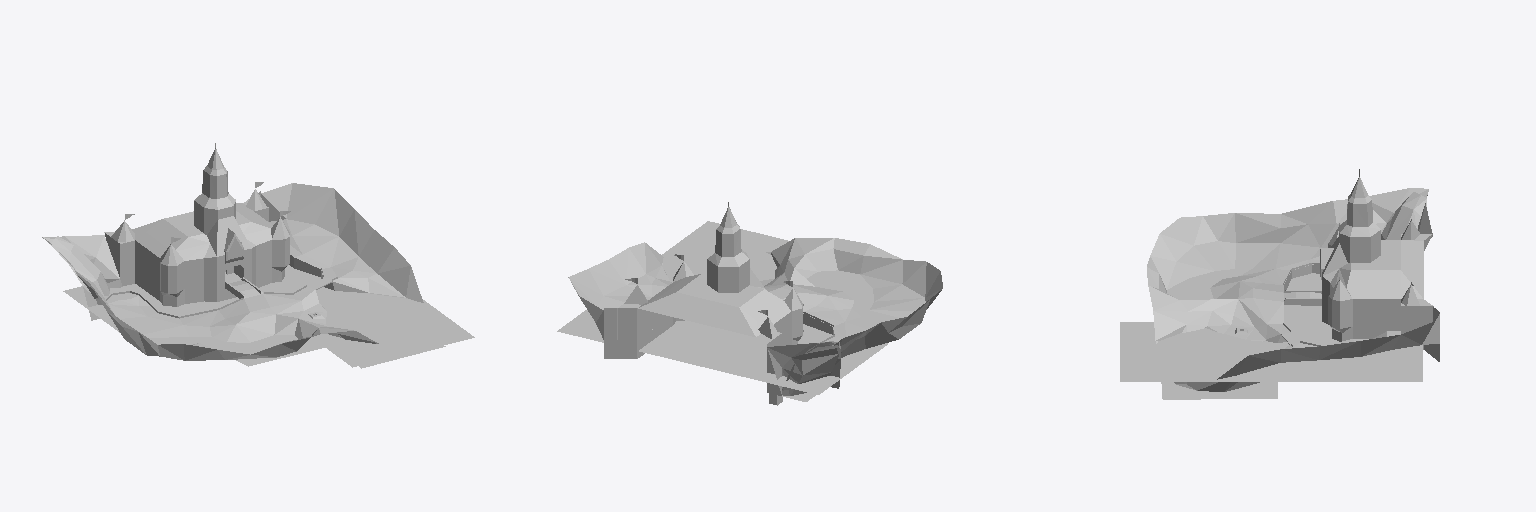
File: peaches_castle.obj
The picture shows the model from 3 angles: view 1: azimuth 30°, elevation 25°; view 2: azimuth 150°, elevation 25°; view 3: azimuth 270°, elevation 25°; orthographic projection.
Visible parts, largest first — view 1: Shape_IndexedFaceSet_137_Shape_IndexedFaceSet.259, Shape_IndexedFaceSet_038_Shape_IndexedFaceSet.160, Shape_IndexedFaceSet_017_Shape_IndexedFaceSet.139, Shape_IndexedFaceSet_022_Shape_IndexedFaceSet.144, Shape_IndexedFaceSet_012_Shape_IndexedFaceSet.134, Shape_IndexedFaceSet_023_Shape_IndexedFaceSet.145, Shape_IndexedFaceSet_030_Shape_IndexedFaceSet.152, Shape_IndexedFaceSet_136_Shape_IndexedFaceSet.258, Shape_IndexedFaceSet_071_Shape_IndexedFaceSet.193, Shape_IndexedFaceSet_034_Shape_IndexedFaceSet.156, Shape_IndexedFaceSet_070_Shape_IndexedFaceSet.192, Shape_IndexedFaceSet_013_Shape_IndexedFaceSet.135; view 2: Shape_IndexedFaceSet_038_Shape_IndexedFaceSet.160, Shape_IndexedFaceSet_137_Shape_IndexedFaceSet.259, Shape_IndexedFaceSet_012_Shape_IndexedFaceSet.134, Shape_IndexedFaceSet_017_Shape_IndexedFaceSet.139, Shape_IndexedFaceSet_022_Shape_IndexedFaceSet.144, Shape_IndexedFaceSet_023_Shape_IndexedFaceSet.145, Shape_IndexedFaceSet_034_Shape_IndexedFaceSet.156, Shape_IndexedFaceSet_071_Shape_IndexedFaceSet.193, Shape_IndexedFaceSet_070_Shape_IndexedFaceSet.192, Shape_IndexedFaceSet_030_Shape_IndexedFaceSet.152; view 3: Shape_IndexedFaceSet_038_Shape_IndexedFaceSet.160, Shape_IndexedFaceSet_137_Shape_IndexedFaceSet.259, Shape_IndexedFaceSet_012_Shape_IndexedFaceSet.134, Shape_IndexedFaceSet_022_Shape_IndexedFaceSet.144, Shape_IndexedFaceSet_017_Shape_IndexedFaceSet.139, Shape_IndexedFaceSet_023_Shape_IndexedFaceSet.145, Shape_IndexedFaceSet_030_Shape_IndexedFaceSet.152, Shape_IndexedFaceSet_071_Shape_IndexedFaceSet.193, Shape_IndexedFaceSet_026_Shape_IndexedFaceSet.148, Shape_IndexedFaceSet_034_Shape_IndexedFaceSet.156, Shape_IndexedFaceSet_136_Shape_IndexedFaceSet.258, Shape_IndexedFaceSet_070_Shape_IndexedFaceSet.192.
Part boxes in pixels (x1,y1,x2,y2): Shape_IndexedFaceSet_137_Shape_IndexedFaceSet.259: (63, 265, 474, 367); Shape_IndexedFaceSet_038_Shape_IndexedFaceSet.160: (59, 183, 410, 360); Shape_IndexedFaceSet_017_Shape_IndexedFaceSet.139: (104, 191, 289, 306); Shape_IndexedFaceSet_022_Shape_IndexedFaceSet.144: (103, 219, 376, 348); Shape_IndexedFaceSet_012_Shape_IndexedFaceSet.134: (111, 189, 289, 265); Shape_IndexedFaceSet_023_Shape_IndexedFaceSet.145: (114, 245, 336, 366); Shape_IndexedFaceSet_030_Shape_IndexedFaceSet.152: (253, 274, 405, 334); Shape_IndexedFaceSet_136_Shape_IndexedFaceSet.258: (50, 236, 109, 320); Shape_IndexedFaceSet_071_Shape_IndexedFaceSet.193: (194, 170, 235, 234); Shape_IndexedFaceSet_034_Shape_IndexedFaceSet.156: (42, 236, 423, 343); Shape_IndexedFaceSet_070_Shape_IndexedFaceSet.192: (194, 148, 235, 209); Shape_IndexedFaceSet_013_Shape_IndexedFaceSet.135: (160, 234, 289, 298); Shape_IndexedFaceSet_038_Shape_IndexedFaceSet.160: (568, 238, 942, 367); Shape_IndexedFaceSet_137_Shape_IndexedFaceSet.259: (557, 221, 887, 394); Shape_IndexedFaceSet_012_Shape_IndexedFaceSet.134: (624, 262, 802, 339); Shape_IndexedFaceSet_017_Shape_IndexedFaceSet.139: (604, 304, 802, 395); Shape_IndexedFaceSet_022_Shape_IndexedFaceSet.144: (597, 274, 925, 336); Shape_IndexedFaceSet_023_Shape_IndexedFaceSet.145: (652, 270, 873, 341); Shape_IndexedFaceSet_034_Shape_IndexedFaceSet.156: (646, 243, 841, 395); Shape_IndexedFaceSet_071_Shape_IndexedFaceSet.193: (707, 229, 749, 292); Shape_IndexedFaceSet_070_Shape_IndexedFaceSet.192: (708, 206, 748, 266); Shape_IndexedFaceSet_030_Shape_IndexedFaceSet.152: (647, 266, 814, 291); Shape_IndexedFaceSet_038_Shape_IndexedFaceSet.160: (1147, 188, 1439, 374); Shape_IndexedFaceSet_137_Shape_IndexedFaceSet.259: (1120, 273, 1422, 381); Shape_IndexedFaceSet_012_Shape_IndexedFaceSet.134: (1321, 221, 1423, 305); Shape_IndexedFaceSet_022_Shape_IndexedFaceSet.144: (1167, 241, 1320, 298); Shape_IndexedFaceSet_017_Shape_IndexedFaceSet.139: (1321, 234, 1439, 361); Shape_IndexedFaceSet_023_Shape_IndexedFaceSet.145: (1167, 259, 1400, 347); Shape_IndexedFaceSet_030_Shape_IndexedFaceSet.152: (1208, 289, 1291, 348); Shape_IndexedFaceSet_071_Shape_IndexedFaceSet.193: (1339, 200, 1380, 262); Shape_IndexedFaceSet_026_Shape_IndexedFaceSet.148: (1161, 382, 1277, 399); Shape_IndexedFaceSet_034_Shape_IndexedFaceSet.156: (1156, 188, 1428, 391); Shape_IndexedFaceSet_136_Shape_IndexedFaceSet.258: (1381, 192, 1426, 239); Shape_IndexedFaceSet_070_Shape_IndexedFaceSet.192: (1339, 177, 1380, 236).
Bounding box in the file's own units: 16.44 × 9.96 × 16.22.